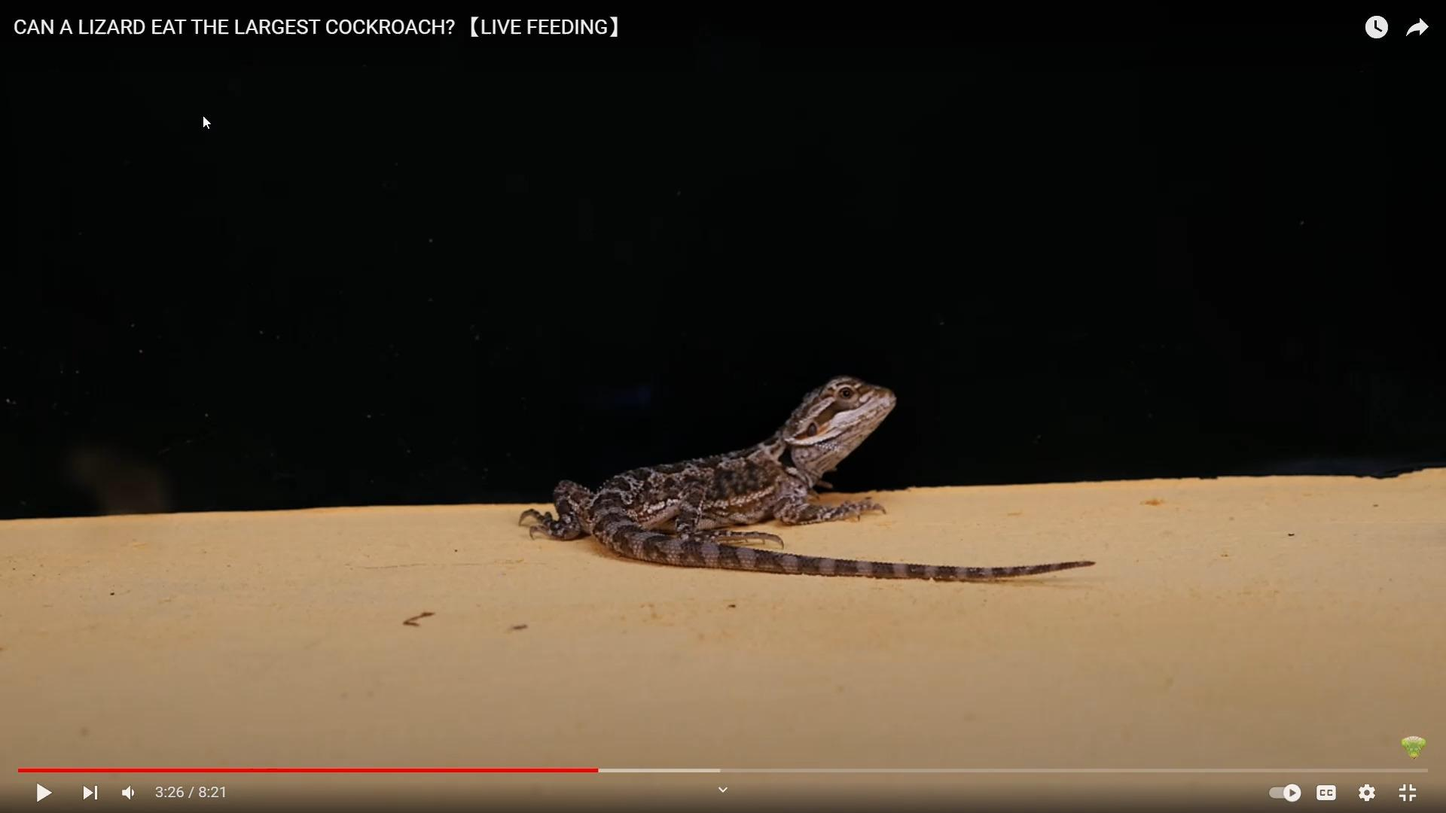lizard: (492, 368, 1106, 583)
